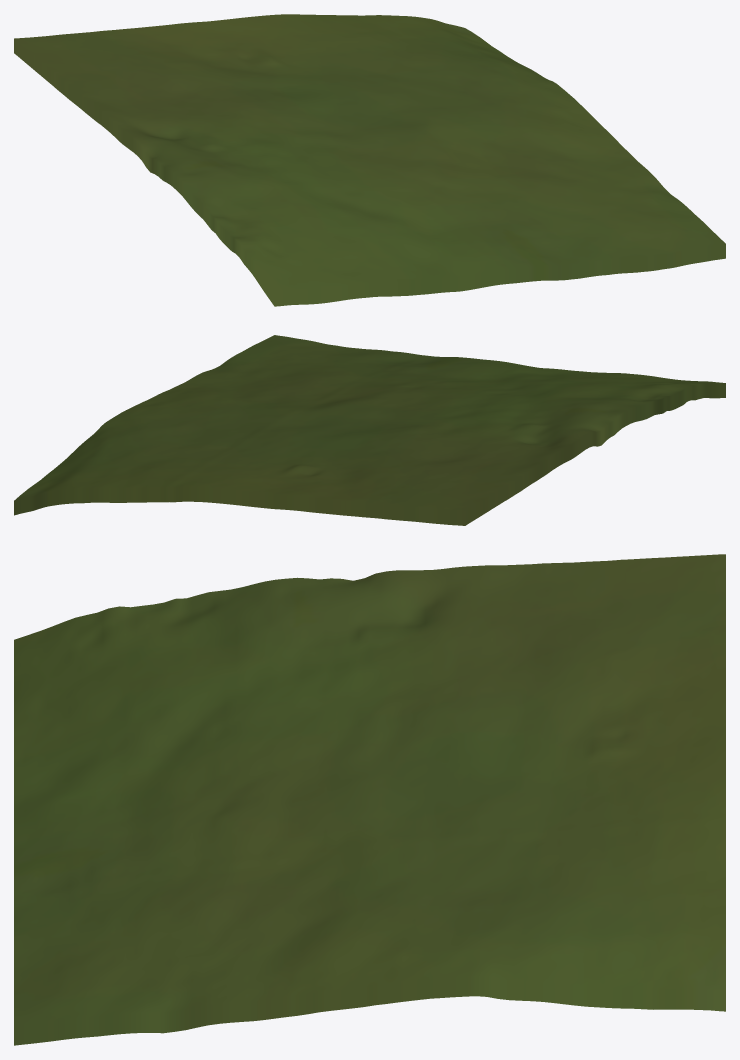
File: terrain_7_-13.glb
The picture shows the model from 3 angles, top to bottom: view 1: azimuth 30°, elevation 25°; view 2: azimuth 150°, elevation 25°; view 3: azimuth 270°, elevation 25°; orthographic projection. The views are drawn at different scales.
Visible parts, largest first — view 1: terrain_7_-13; view 2: terrain_7_-13; view 3: terrain_7_-13.
Boxes of the visible parts, x1=… form: terrain_7_-13: x1=14, y1=14, x2=725, y2=306; terrain_7_-13: x1=14, y1=335, x2=725, y2=525; terrain_7_-13: x1=14, y1=554, x2=725, y2=1045.
Size of the model in its own units: 256 by 75.57 by 256.
